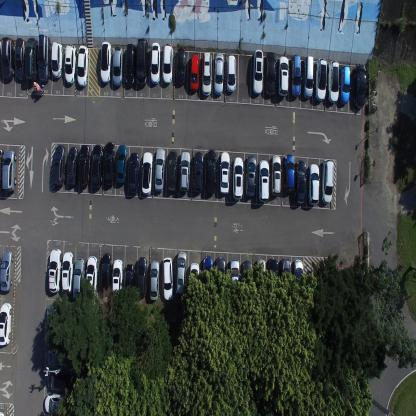car: (38, 34, 52, 82), (136, 37, 149, 88), (320, 159, 335, 203), (2, 148, 17, 192), (0, 36, 15, 80), (24, 36, 38, 83), (48, 248, 62, 293), (72, 256, 86, 300), (0, 300, 13, 347), (0, 249, 14, 292), (141, 150, 154, 196), (353, 64, 366, 110), (52, 144, 66, 186), (103, 140, 115, 188), (76, 44, 89, 88), (327, 59, 340, 103), (100, 251, 112, 298), (91, 143, 103, 190), (46, 372, 74, 392), (307, 162, 320, 205), (85, 254, 98, 297), (257, 158, 269, 203), (175, 251, 187, 296), (162, 256, 174, 301), (124, 42, 136, 87), (302, 54, 314, 99), (202, 256, 214, 300), (232, 156, 244, 200), (244, 154, 256, 198), (100, 40, 112, 84), (253, 48, 264, 96), (290, 53, 302, 97), (315, 57, 327, 101), (78, 145, 90, 188), (264, 52, 276, 95), (179, 150, 191, 192), (64, 43, 76, 85), (45, 304, 70, 324), (154, 147, 165, 192), (150, 40, 161, 85), (228, 259, 241, 297), (277, 55, 289, 96), (62, 250, 73, 294), (128, 152, 139, 196), (112, 258, 124, 298), (66, 146, 78, 186), (47, 349, 72, 368), (44, 394, 69, 413), (213, 53, 224, 96), (295, 159, 306, 202), (189, 261, 200, 304), (201, 51, 211, 98), (206, 148, 216, 195), (193, 150, 204, 192), (219, 151, 230, 193), (124, 262, 135, 304), (15, 36, 25, 82), (241, 259, 253, 297), (292, 258, 304, 296), (51, 41, 63, 79), (162, 42, 173, 83), (216, 255, 226, 299), (267, 256, 278, 296), (137, 256, 147, 300), (116, 144, 127, 184), (112, 46, 123, 86), (167, 150, 177, 192), (150, 259, 160, 301), (283, 153, 294, 191), (255, 257, 266, 295), (280, 258, 291, 296), (271, 154, 281, 195), (340, 64, 350, 105), (176, 46, 186, 86), (189, 52, 199, 92), (226, 54, 236, 94), (0, 147, 4, 193)
